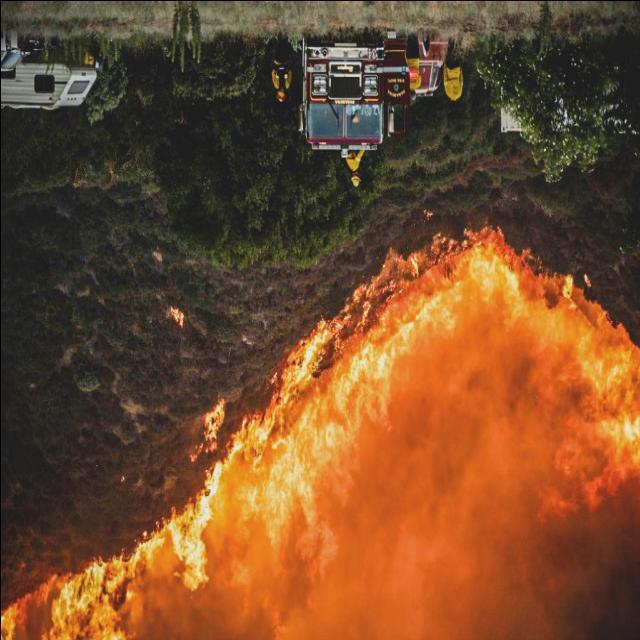Fire: (1, 260, 638, 636), (200, 399, 225, 444), (168, 302, 184, 332)
